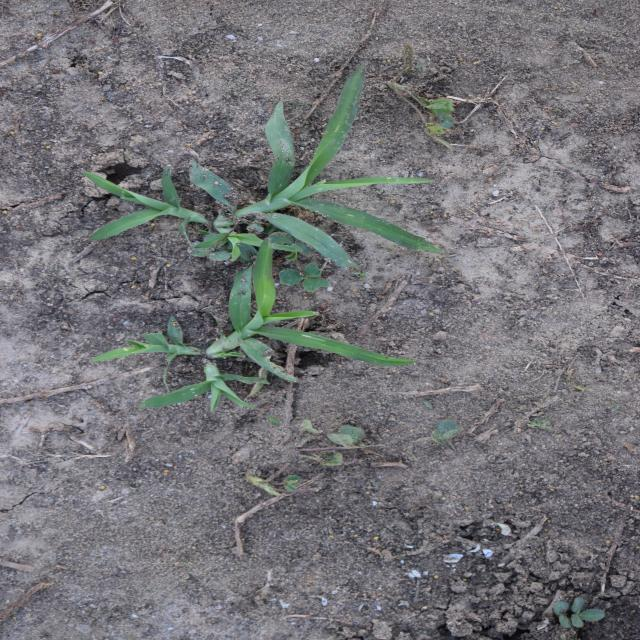Goosegrass: (77, 62, 453, 428)
